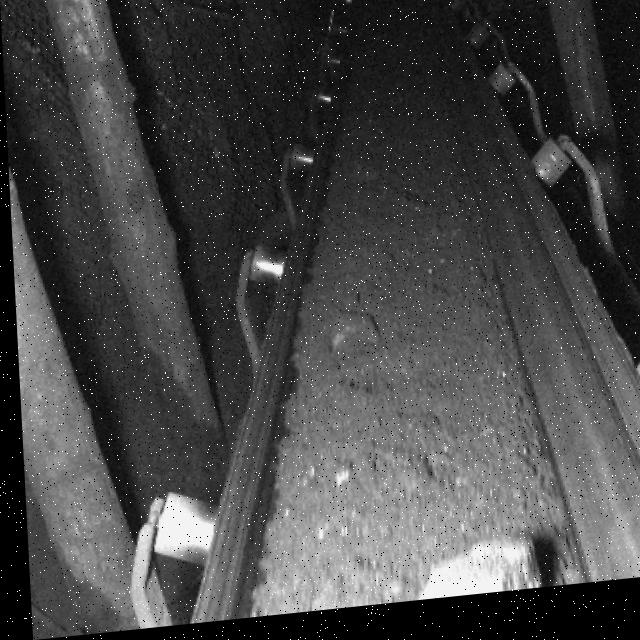large_sized_coal: (407, 545, 535, 609)
